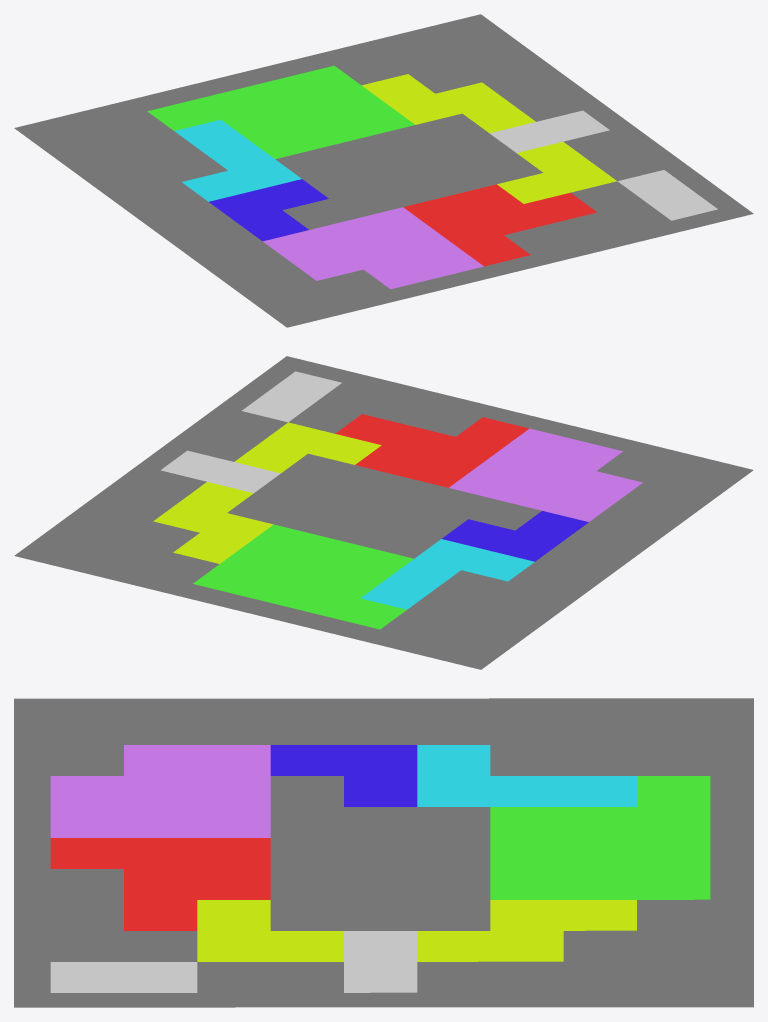
File: Floor.fbx
3 views of the same model, one above another, from view 1: azimuth 30°, elevation 25°; view 2: azimuth 150°, elevation 25°; view 3: azimuth 270°, elevation 25° (orthographic). The views are drawn at different scales.
Parts seen in each view (by area): view 1: Floor001; view 2: Floor001; view 3: Floor001.
Boxes of the visible parts, bbox=[...] form: Floor001: bbox=[14, 14, 753, 327]; Floor001: bbox=[14, 356, 753, 669]; Floor001: bbox=[14, 698, 753, 1007].
Size of the model in its own units: 16148 by 1e-12 by 16340.
